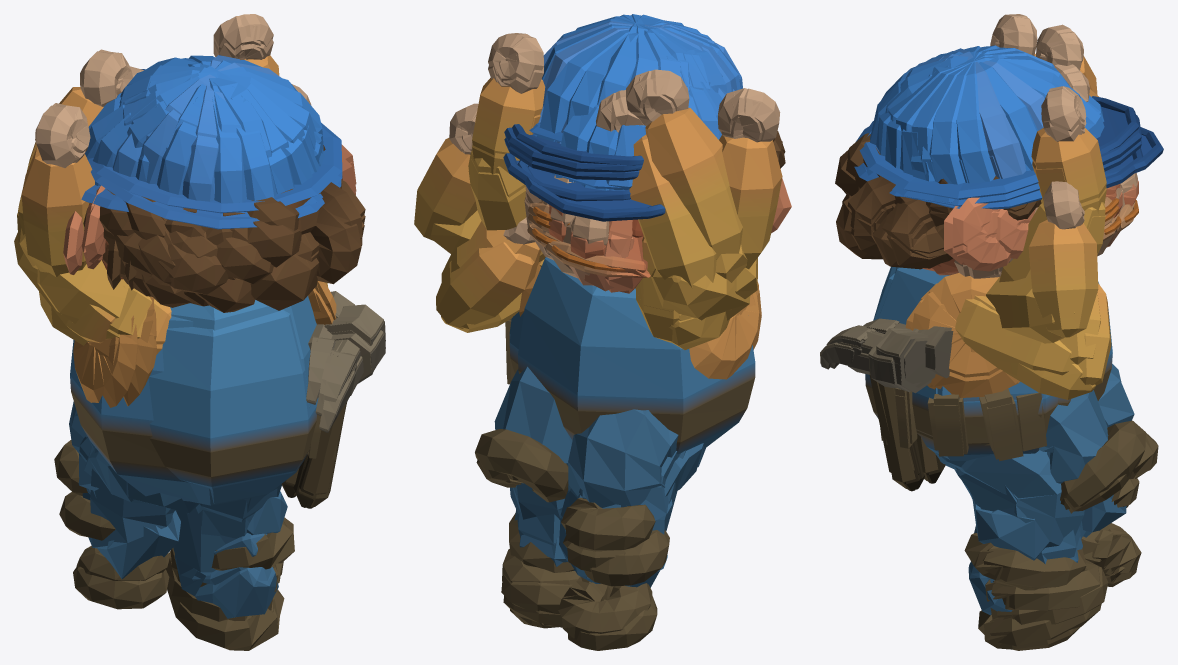
Rendered from Worker_climb 1.fbx.
3 renders of one model, left to right at view 1: azimuth 30°, elevation 25°; view 2: azimuth 150°, elevation 25°; view 3: azimuth 270°, elevation 25°, orthographic. The views are drawn at different scales.
Parts seen in each view (by area): view 1: Climb; view 2: Climb; view 3: Climb.
Part boxes in pixels (x1,y1,x2,y2): Climb: (14, 14, 385, 650); Climb: (414, 14, 791, 650); Climb: (820, 14, 1163, 650).
Bounding box in the file's own units: 1.34 × 2.27 × 1.25.
